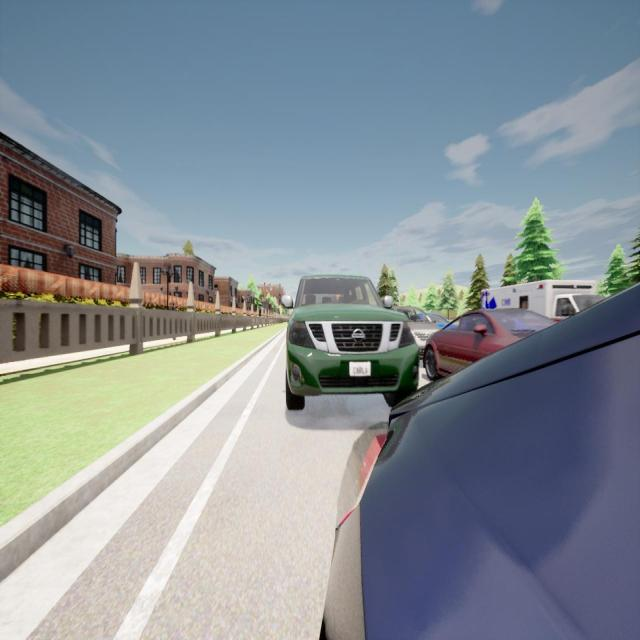Vehicle: (324, 284, 640, 638), (285, 276, 418, 410), (422, 309, 556, 376), (475, 280, 608, 326), (392, 307, 431, 351), (418, 313, 457, 330)
